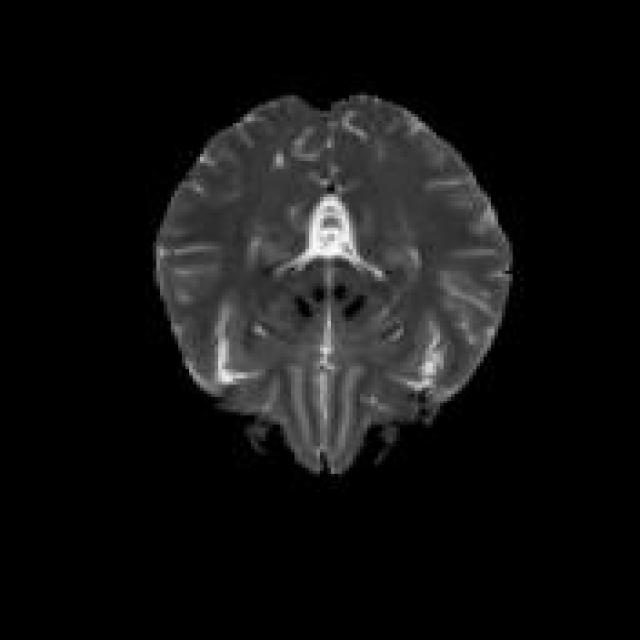parkinson: (149, 89, 513, 477)
